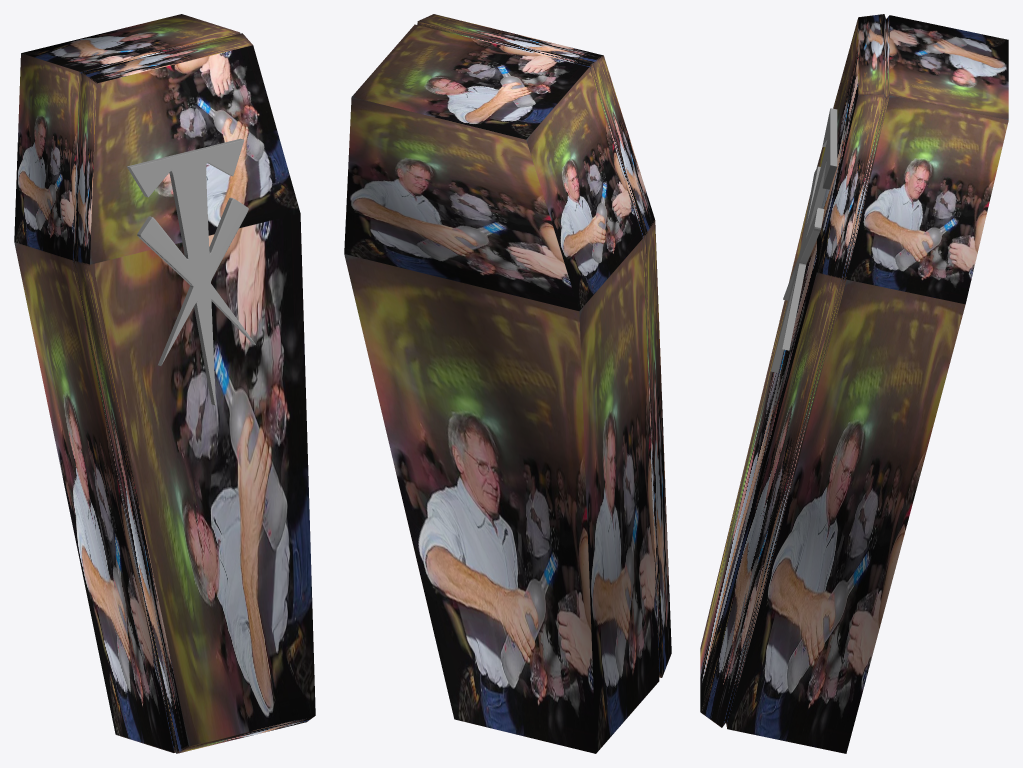
3 views of the same model, side by side, from view 1: azimuth 30°, elevation 25°; view 2: azimuth 150°, elevation 25°; view 3: azimuth 270°, elevation 25° (orthographic). The views are drawn at different scales.
Visible parts, largest first — view 1: coffin_Cube.002_Material.003, symbol_Cube.001; view 2: coffin_Cube.002_Material.003; view 3: coffin_Cube.002_Material.003, symbol_Cube.001.
Part boxes in pixels (box(x1,y1,x2,y2)): coffin_Cube.002_Material.003: box(14, 14, 315, 753); symbol_Cube.001: box(127, 138, 255, 405); coffin_Cube.002_Material.003: box(344, 14, 671, 753); coffin_Cube.002_Material.003: box(700, 14, 1008, 753); symbol_Cube.001: box(771, 108, 837, 372).
Bounding box in the file's own units: 2.69 × 7.75 × 3.25.
Materials: 2 (1 with a texture image).
